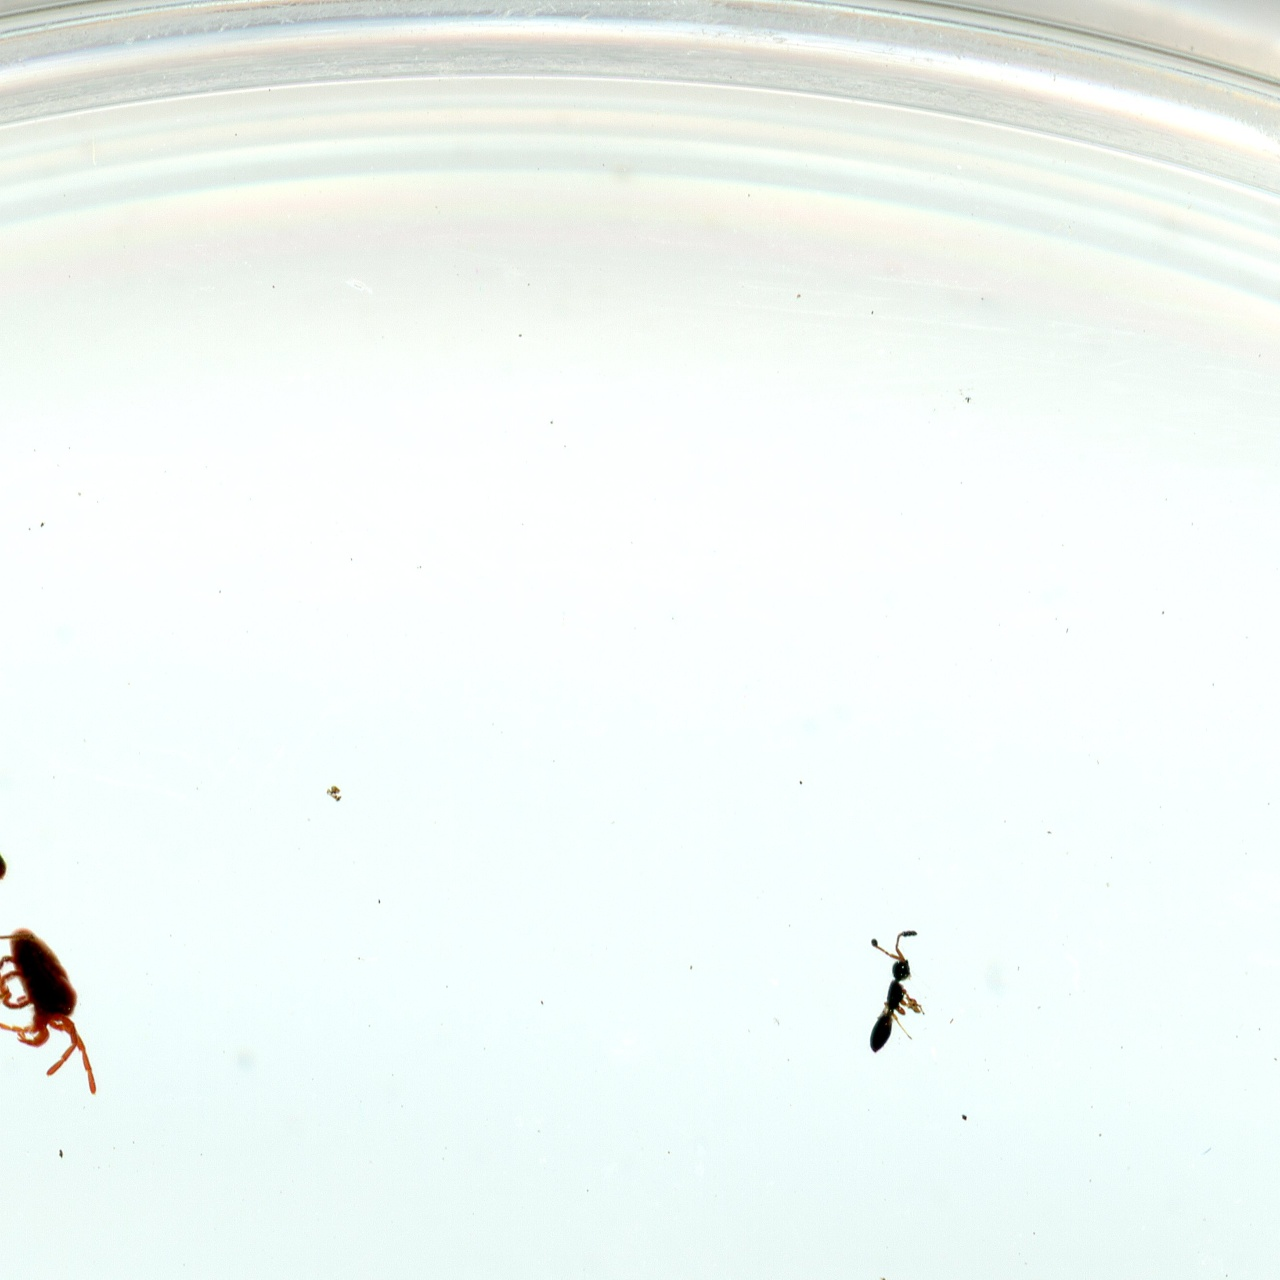arthropod: (0, 919, 101, 1099), (860, 922, 934, 1063), (0, 833, 21, 1041)
